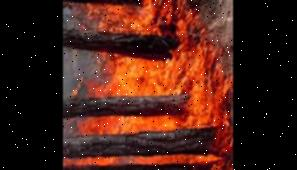fire: (64, 0, 233, 170)
